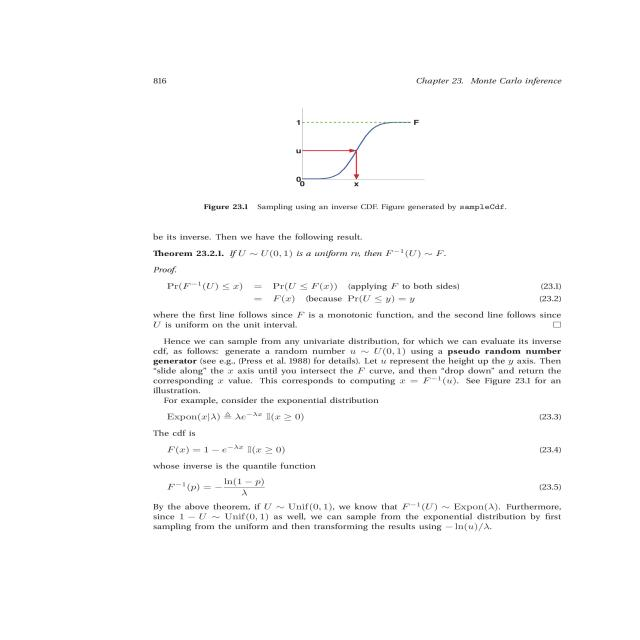diagram: (113, 94, 555, 230)
